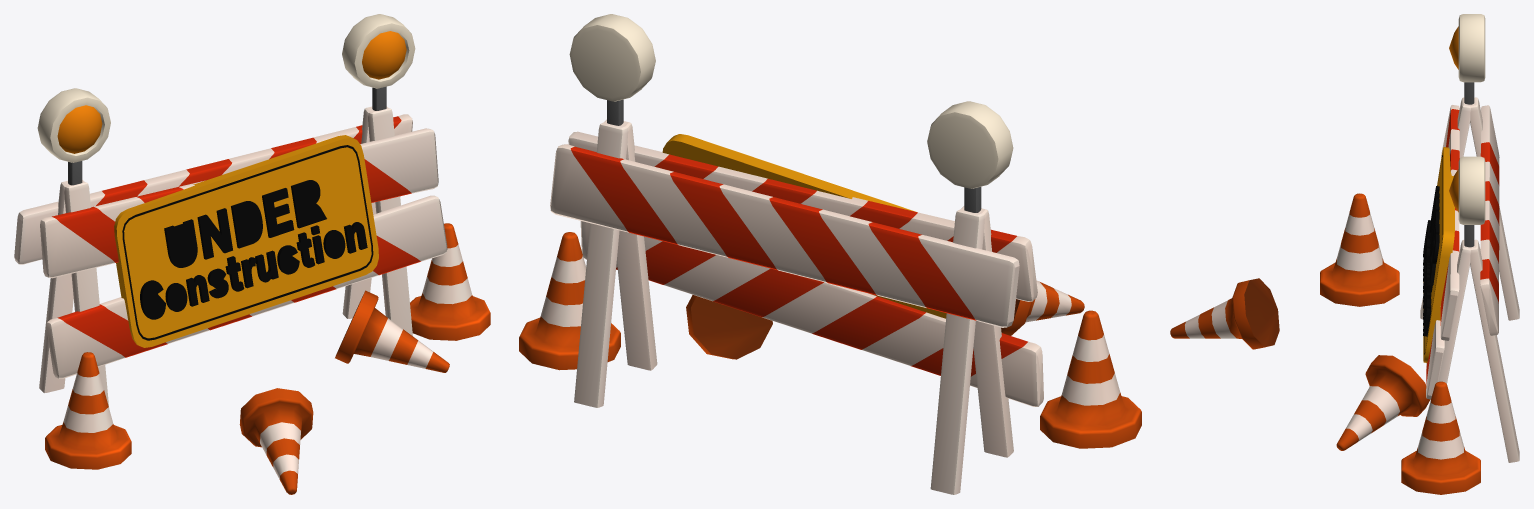
The model's file is BarrierUnderConstruction.fbx.
3 renders of one model, left to right at view 1: azimuth 30°, elevation 25°; view 2: azimuth 150°, elevation 25°; view 3: azimuth 270°, elevation 25°, orthographic. The views are drawn at different scales.
Parts seen in each view (by area): view 1: Box001, Barrier1, Barrier002, Float, Float003, Float002, Box003, Box002, Float001; view 2: Barrier002, Barrier1, Float, Box003, Box002, Float003, Box001, Float001, Float002; view 3: Barrier002, Float, Float003, Barrier1, Float002, Float001, Box001, Box002, Box003.
Boxes of the visible parts, box(x1,y1,x2,y2) form: Box001: box(114, 135, 378, 347); Barrier1: box(40, 107, 447, 406); Barrier002: box(14, 106, 412, 393); Float: box(45, 352, 131, 469); Float003: box(410, 223, 490, 340); Float002: box(239, 388, 313, 494); Box003: box(37, 88, 110, 185); Box002: box(342, 14, 415, 110); Float001: box(335, 290, 449, 372); Barrier002: box(550, 121, 1019, 494); Barrier1: box(568, 119, 1043, 457); Float: box(1040, 310, 1141, 448); Box003: box(927, 101, 1013, 212); Box002: box(569, 14, 655, 125); Float003: box(519, 232, 620, 370); Box001: box(662, 134, 946, 318); Float001: box(686, 295, 772, 359); Float002: box(1001, 280, 1084, 335); Barrier002: box(1470, 97, 1519, 462); Float: box(1320, 193, 1399, 306); Float003: box(1401, 381, 1480, 494); Barrier1: box(1420, 97, 1470, 399); Float002: box(1170, 278, 1279, 349); Float001: box(1336, 355, 1430, 450); Box001: box(1423, 147, 1454, 362); Box002: box(1449, 156, 1485, 247); Box003: box(1449, 14, 1485, 104).
Bounding box in the file's own units: 2.42 × 1.51 × 1.6.
Materials: 6 (1 with a texture image).
